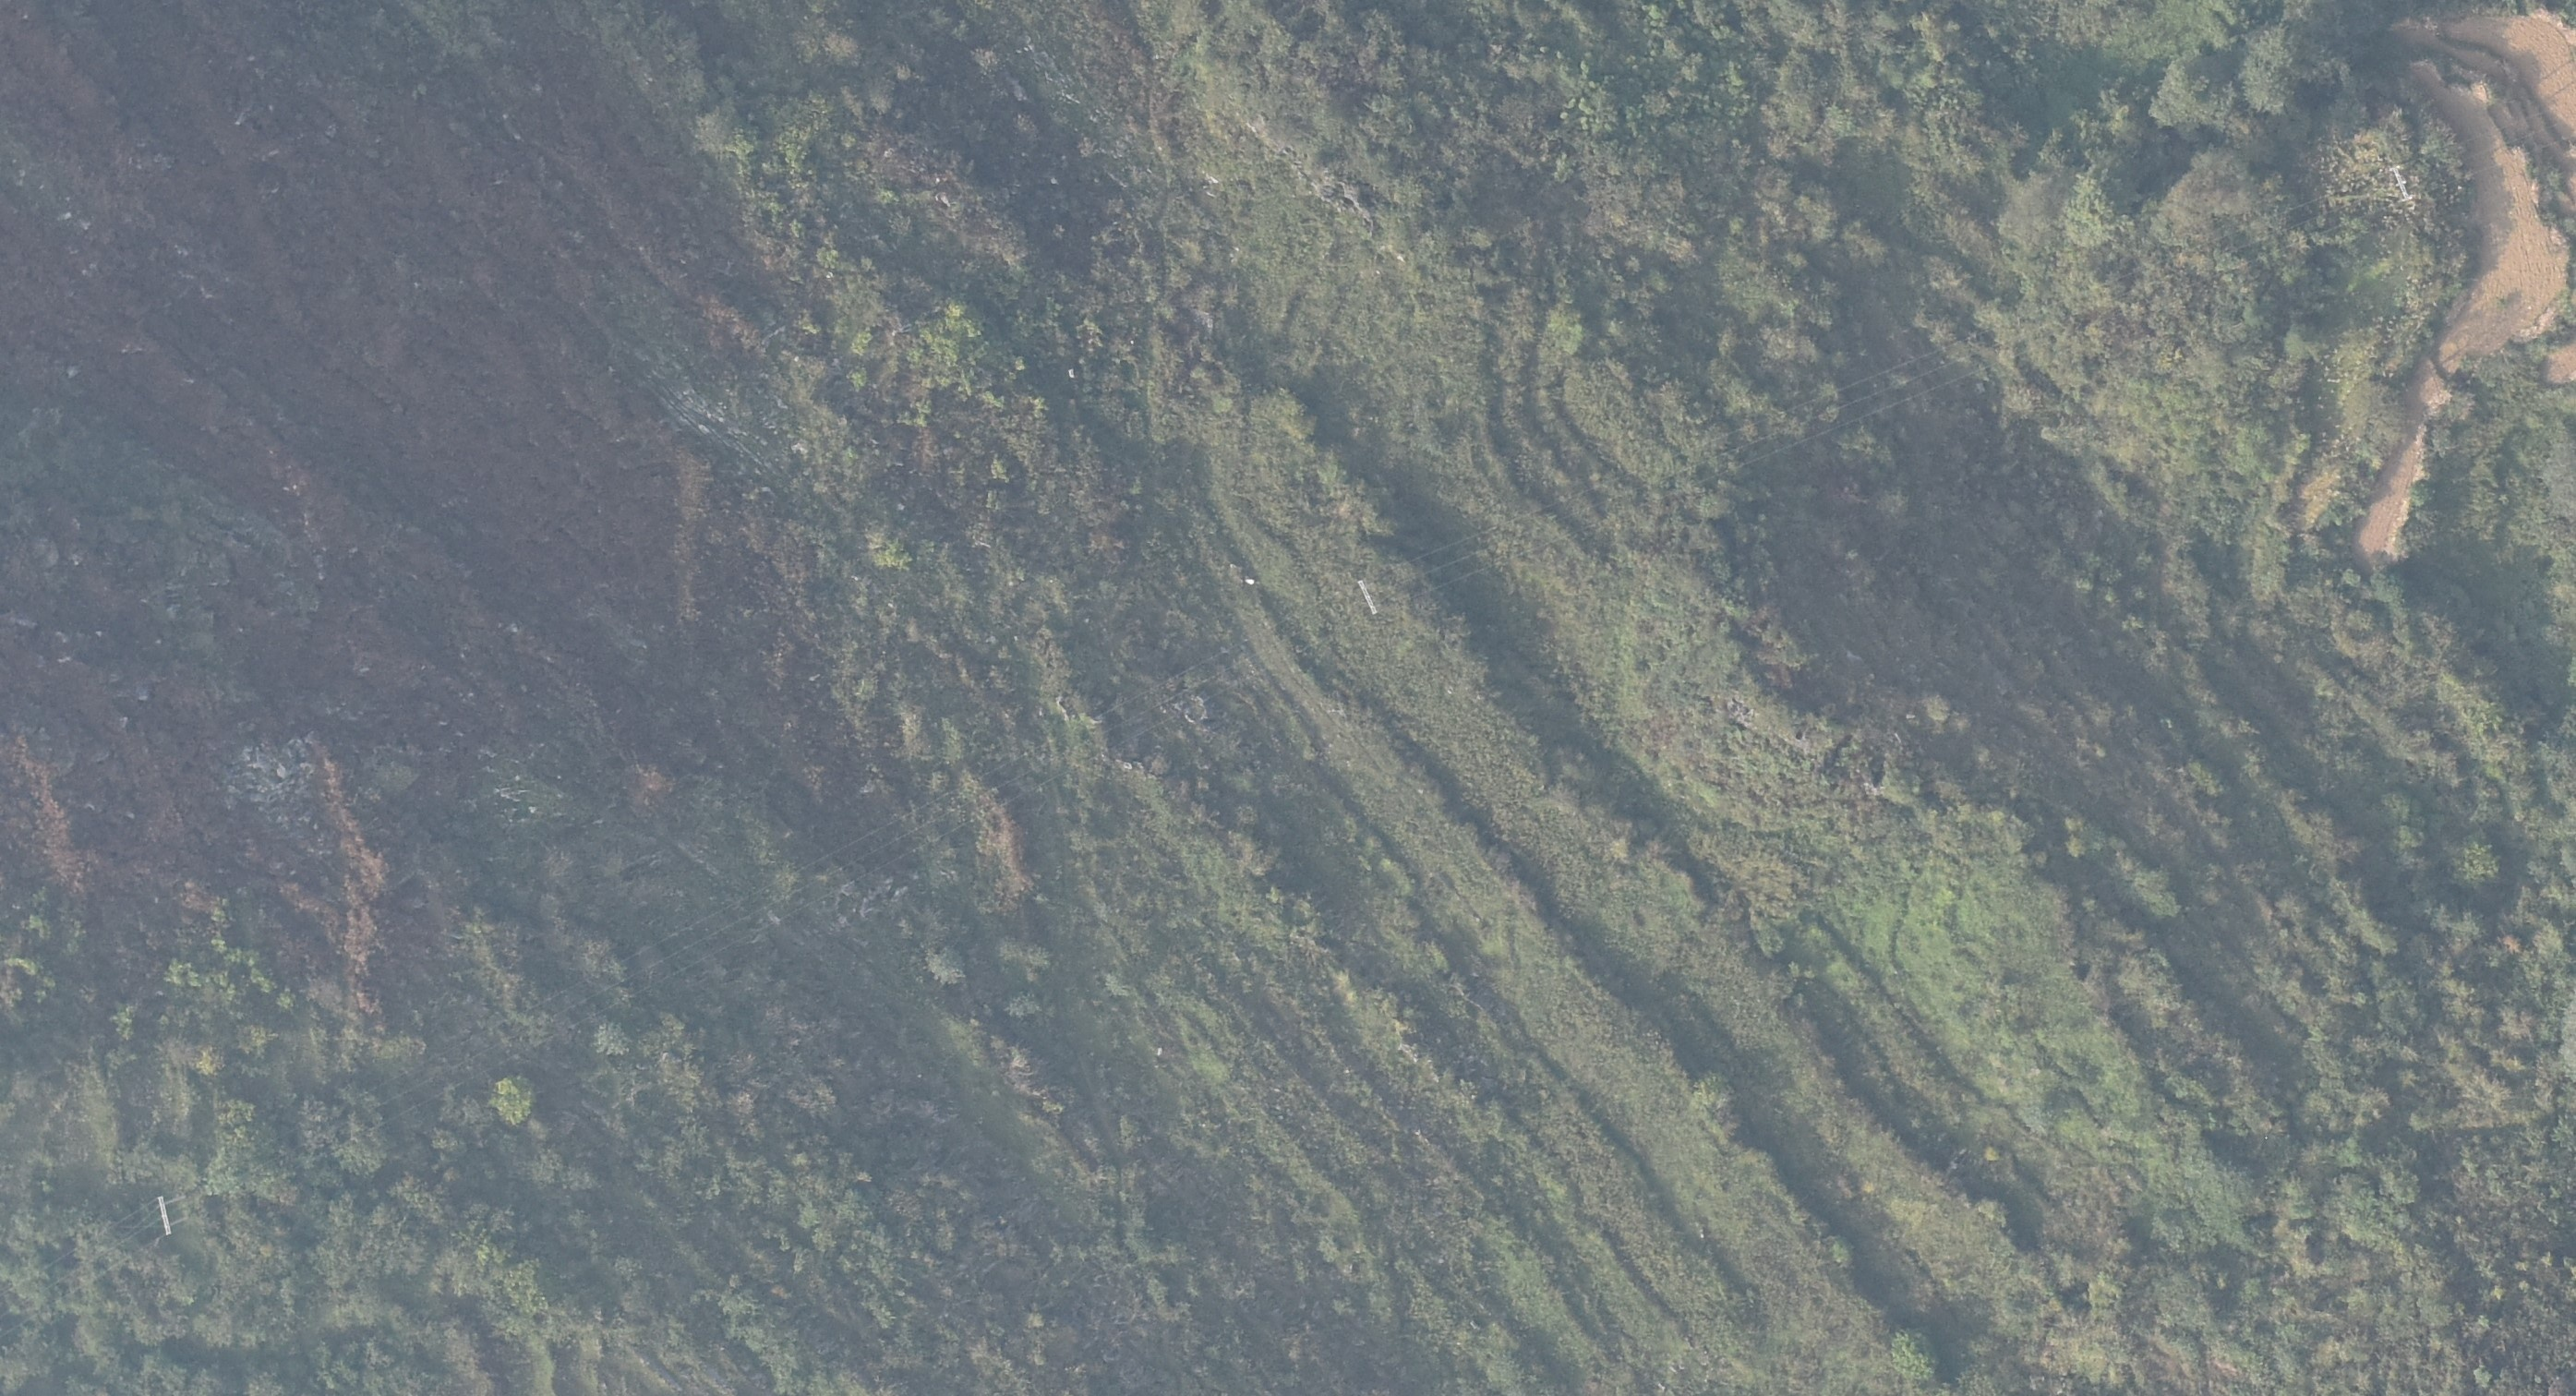cable-tower: (1357, 580, 1378, 615), (158, 1196, 173, 1236), (2394, 168, 2410, 199)
